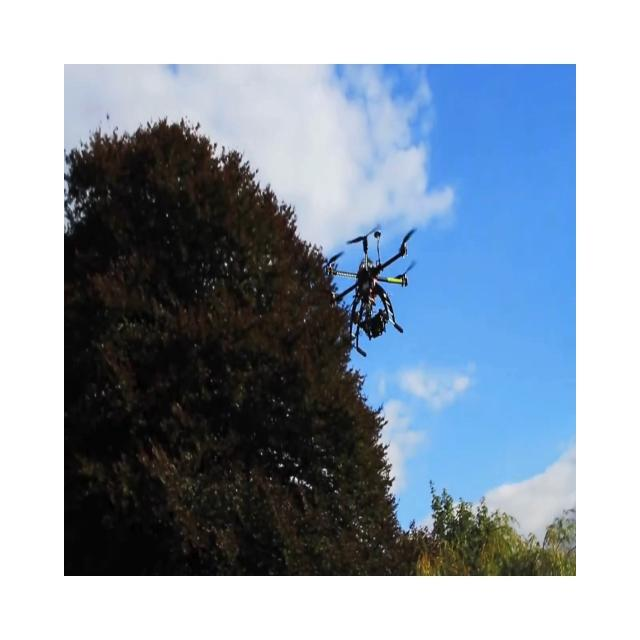drone: (322, 225, 418, 357)
